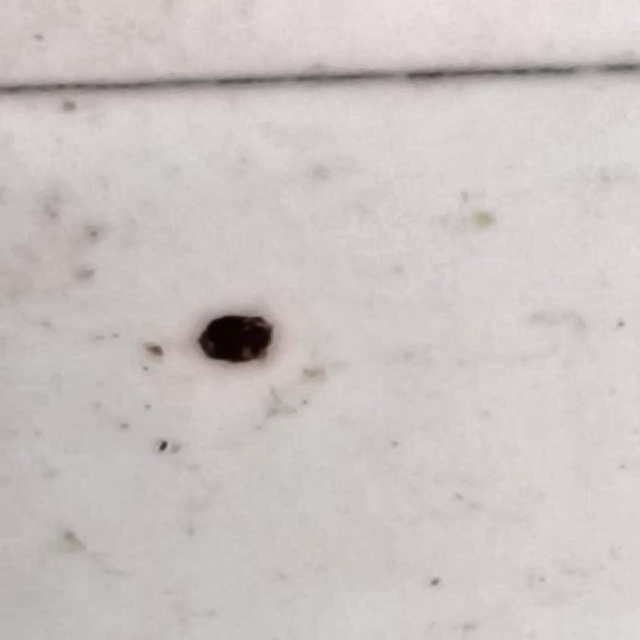varroa: (196, 315, 276, 366)
